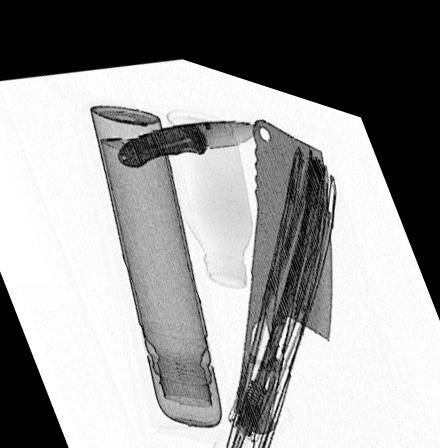Knife: (235, 102, 332, 418), (116, 106, 257, 159)
